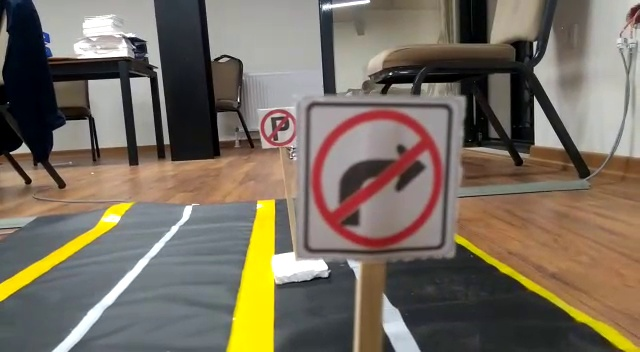park_yapilmaz: (255, 106, 299, 148)
saga_donulmez: (305, 100, 448, 251)
